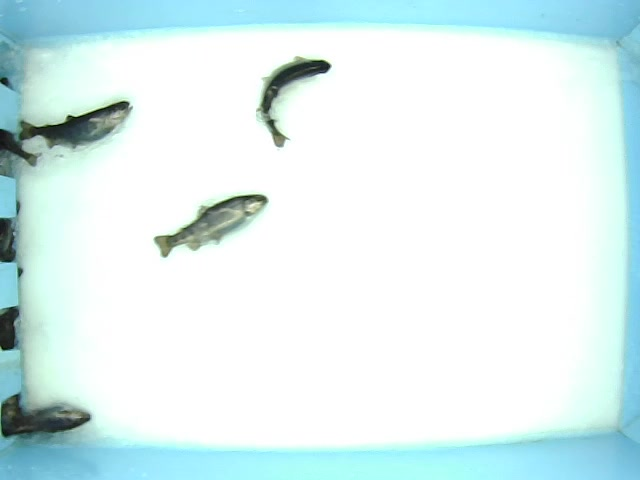fish: (246, 47, 343, 160), (148, 188, 286, 262), (31, 85, 142, 156)
